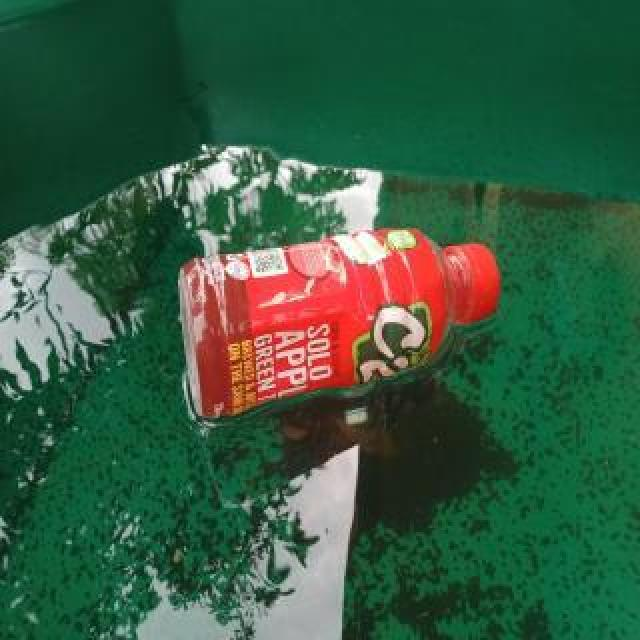bottle: (176, 224, 502, 422)
